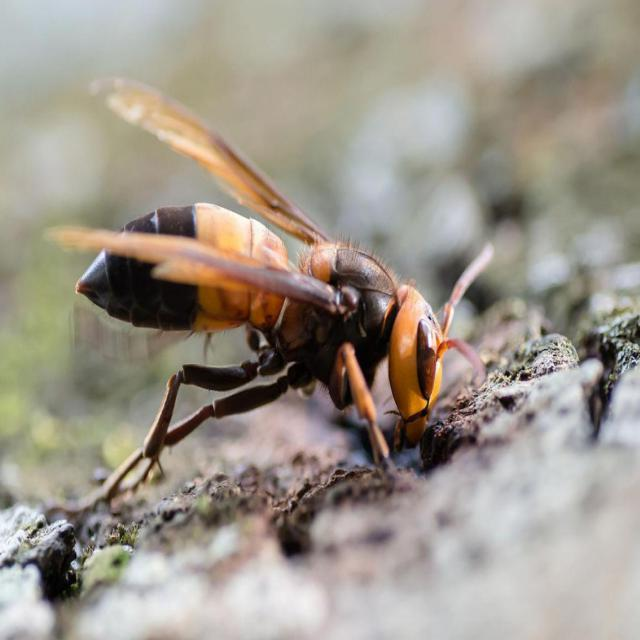Vespa Velutina: (28, 59, 501, 542)
